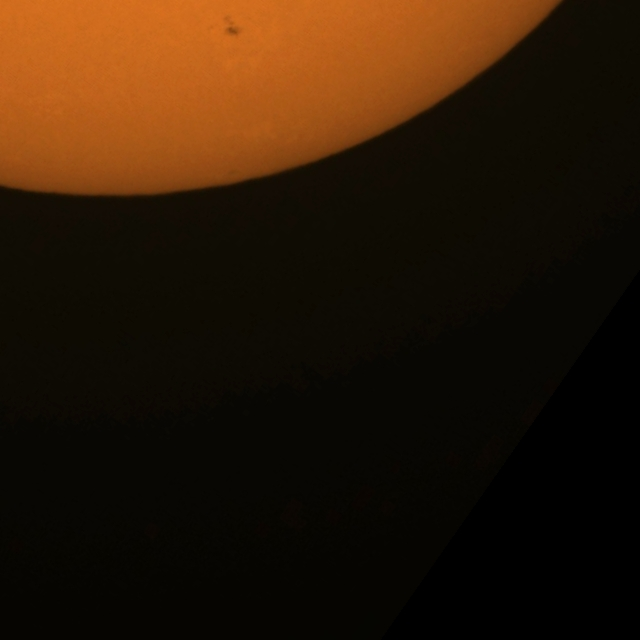sunspot: (215, 15, 243, 38)
